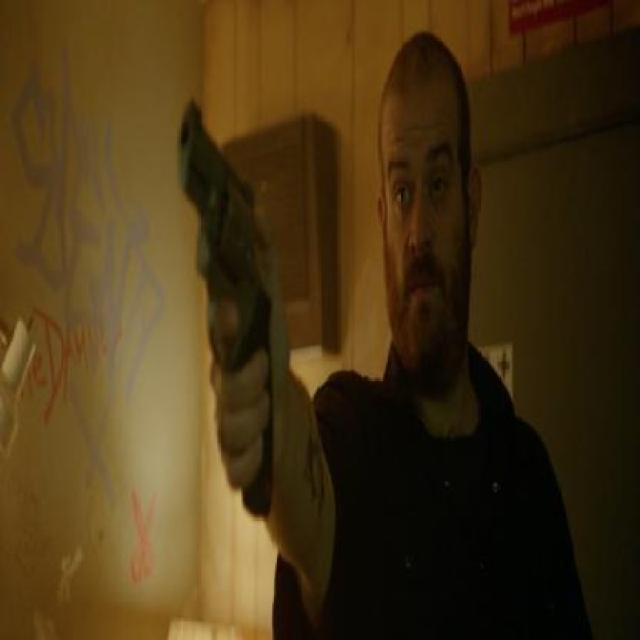gun: (177, 94, 286, 528)
